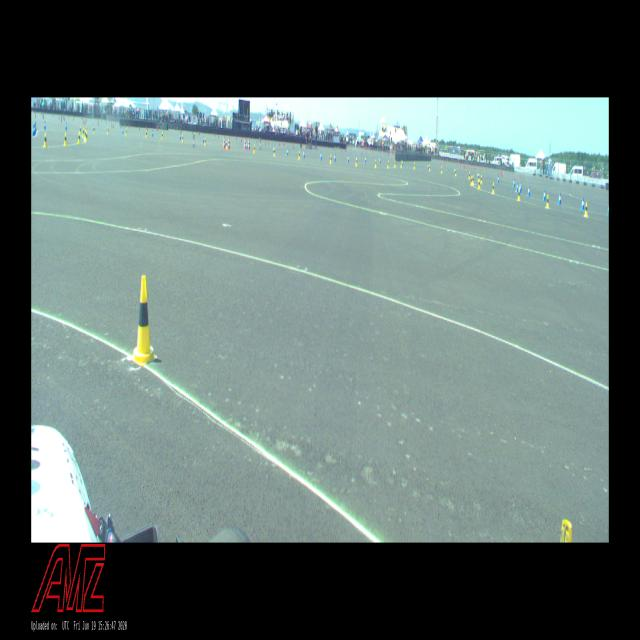blue_cone: (581, 198, 584, 210), (558, 193, 561, 204), (607, 203, 609, 216), (202, 136, 205, 144), (543, 190, 545, 200), (528, 186, 530, 196), (32, 126, 34, 136), (34, 124, 36, 134), (347, 154, 349, 164), (516, 183, 518, 192), (35, 122, 37, 131), (44, 121, 46, 130), (303, 150, 305, 159), (334, 153, 336, 162), (364, 155, 366, 164), (513, 179, 515, 187), (246, 142, 248, 150), (320, 152, 322, 160), (379, 157, 381, 165), (497, 175, 499, 183), (286, 149, 288, 156), (427, 163, 429, 170), (520, 184, 521, 193), (66, 122, 67, 131), (180, 132, 181, 140), (454, 167, 455, 175), (477, 171, 478, 179), (93, 125, 94, 132), (152, 130, 153, 137), (226, 139, 227, 146), (402, 160, 403, 166), (274, 147, 274, 154)
large_orange_cone: (223, 136, 226, 148), (228, 137, 230, 149), (244, 137, 246, 149), (248, 137, 250, 149)
yellow_cone: (132, 276, 157, 365), (584, 202, 588, 217), (546, 194, 549, 208), (64, 134, 67, 146), (44, 133, 46, 147), (468, 171, 471, 180), (492, 182, 494, 194), (253, 145, 256, 153), (518, 188, 520, 200), (204, 138, 207, 146), (78, 132, 80, 143), (478, 179, 480, 189), (86, 132, 88, 142), (298, 150, 300, 160), (330, 154, 332, 163), (480, 175, 482, 184), (146, 130, 148, 139), (182, 134, 184, 143), (226, 140, 228, 149), (356, 158, 358, 166), (107, 127, 109, 135), (126, 128, 128, 136), (274, 148, 276, 156), (387, 160, 389, 168), (394, 160, 396, 168), (400, 160, 402, 168), (478, 174, 480, 182), (122, 128, 124, 134), (471, 176, 472, 186), (472, 175, 473, 185), (375, 159, 376, 168), (83, 128, 84, 137), (80, 126, 81, 135), (94, 125, 95, 134), (162, 132, 163, 140), (414, 162, 415, 169), (429, 164, 430, 171), (441, 166, 442, 173), (455, 169, 456, 176)
